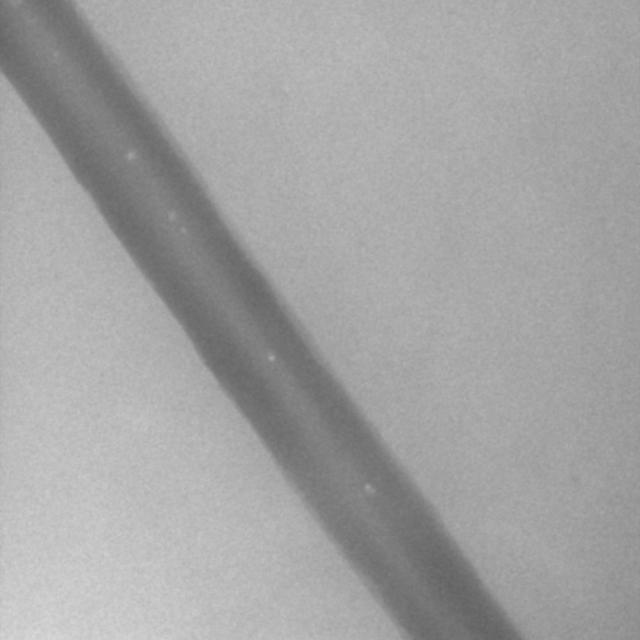air-hole: (363, 481, 379, 498), (268, 351, 279, 366), (128, 148, 136, 162), (178, 223, 187, 229), (168, 212, 175, 219)
